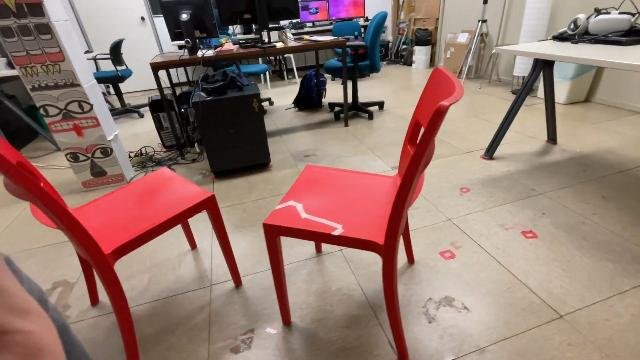Chair: (256, 62, 468, 360), (0, 132, 244, 360)
Lamp: (509, 0, 557, 100)
Stool: (476, 39, 522, 95)
